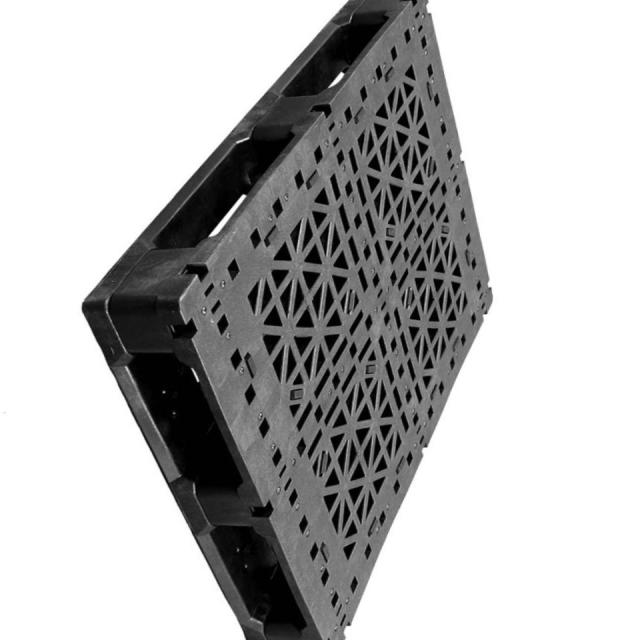non-igps: (71, 0, 502, 640)
